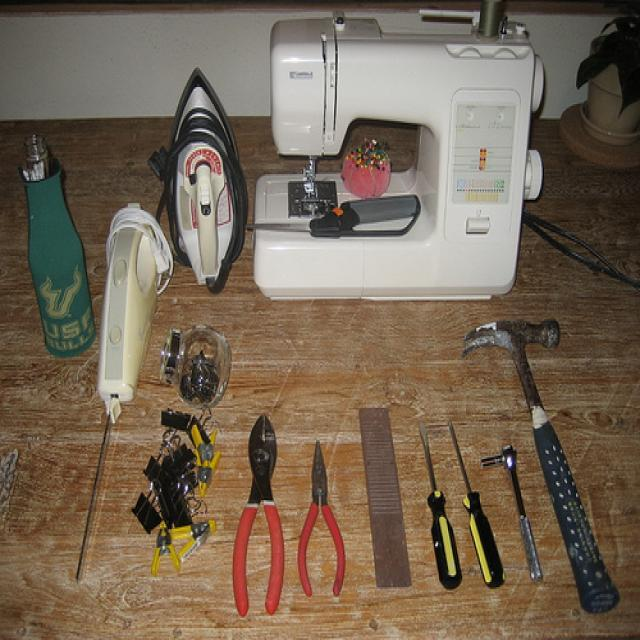hammer: (468, 292, 629, 626)
pliers: (222, 405, 290, 623), (294, 424, 350, 606)
screwdriver: (440, 403, 498, 617), (404, 408, 464, 610)
